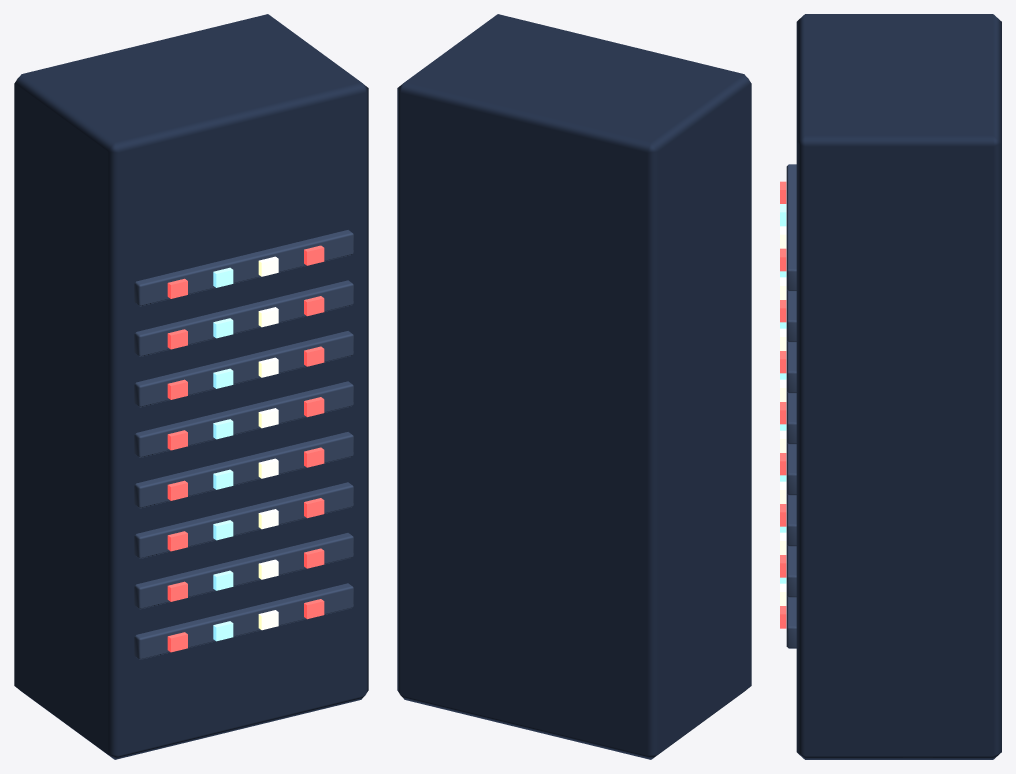
File: patch_bay.glb
3 renders of one model, left to right at view 1: azimuth 30°, elevation 25°; view 2: azimuth 150°, elevation 25°; view 3: azimuth 270°, elevation 25°, orthographic.
Parts seen in each view (by area): view 1: patch_bay; view 2: patch_bay; view 3: patch_bay.
Part boxes in pixels (left/top/right/bottom): patch_bay: left=14, top=14, right=368, bottom=759; patch_bay: left=397, top=14, right=751, bottom=759; patch_bay: left=780, top=14, right=1001, bottom=759.
Size of the model in its own units: 0.92 by 2.08 by 0.6695.
